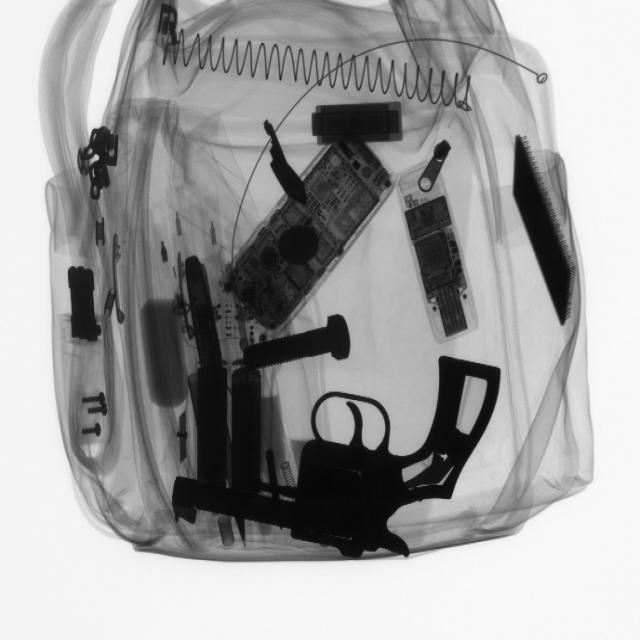GUN: (162, 348, 514, 561)
